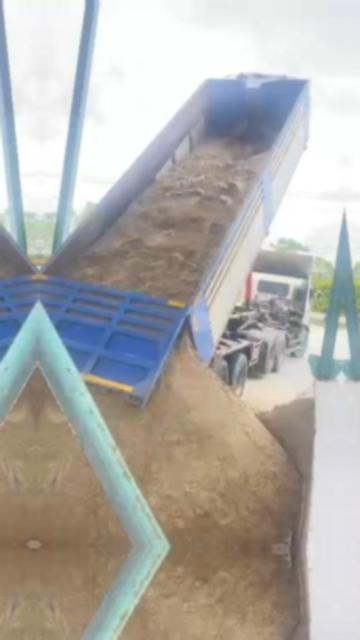sand: (92, 349, 300, 548), (62, 138, 266, 300), (34, 392, 128, 546), (258, 396, 314, 476), (36, 364, 45, 421)
